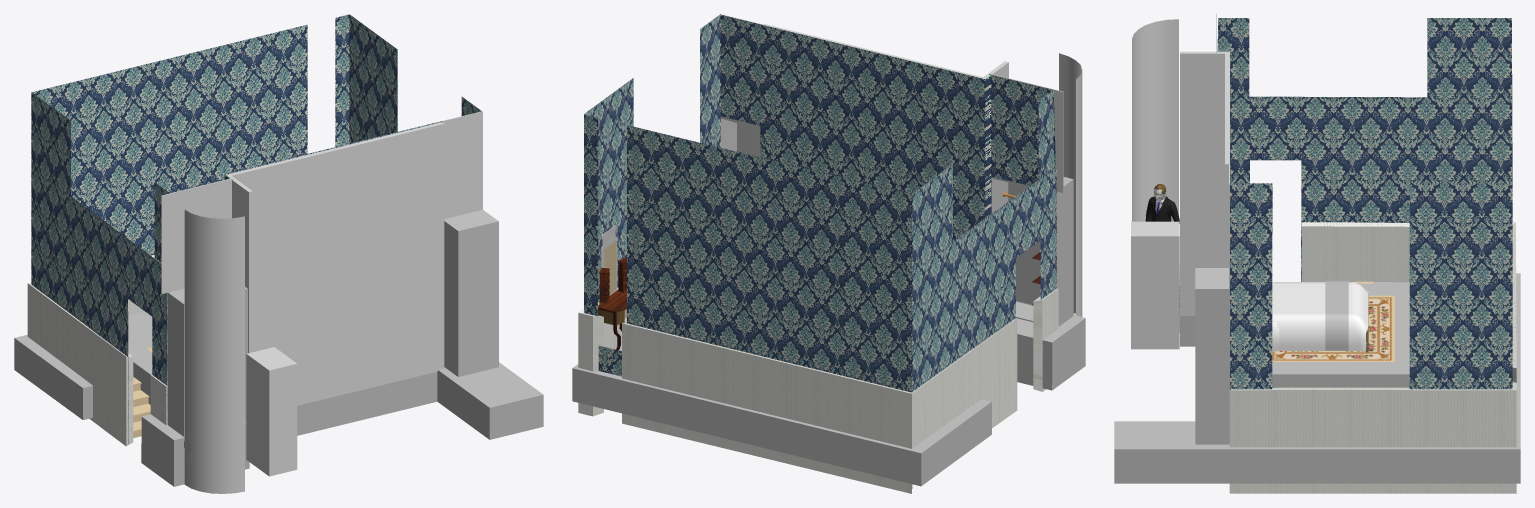
The picture shows the model from 3 angles, left to right: view 1: azimuth 30°, elevation 25°; view 2: azimuth 150°, elevation 25°; view 3: azimuth 270°, elevation 25°; orthographic projection. The views are drawn at different scales.
Parts seen in each view (by area): view 1: Plane.004, Cube.036, Stairs.001, Cube.013, Cube.011, Cube.014, Cube.009; view 2: Plane.004, Stairs.001, Cube.013, Cube.014, Cube.036; view 3: Plane.004, Cube.036, Stairs.001, Cube.011, Cube.013, Plane, suitdone.000.
Boxes of the visible parts, box(x1,y1,x2,y2) form: Plane.004: box(14, 14, 543, 486); Cube.036: box(226, 122, 444, 405); Stairs.001: box(184, 210, 244, 493); Cube.013: box(444, 210, 498, 376); Cube.011: box(246, 347, 297, 476); Cube.014: box(161, 178, 233, 293); Cube.009: box(442, 111, 482, 218); Plane.004: box(572, 14, 1085, 493); Stairs.001: box(1059, 53, 1082, 316); Cube.013: box(720, 116, 760, 157); Cube.014: box(989, 73, 1063, 192); Cube.036: box(762, 23, 1008, 78); Plane.004: box(1114, 18, 1520, 493); Cube.036: box(1180, 51, 1229, 315); Stairs.001: box(1132, 19, 1178, 221); Cube.011: box(1131, 221, 1179, 349); Cube.013: box(1195, 268, 1229, 444); Plane: box(1272, 295, 1394, 361); suitdone.000: box(1145, 184, 1179, 223).
Bounding box in the file's own units: 486 × 397 × 473.
